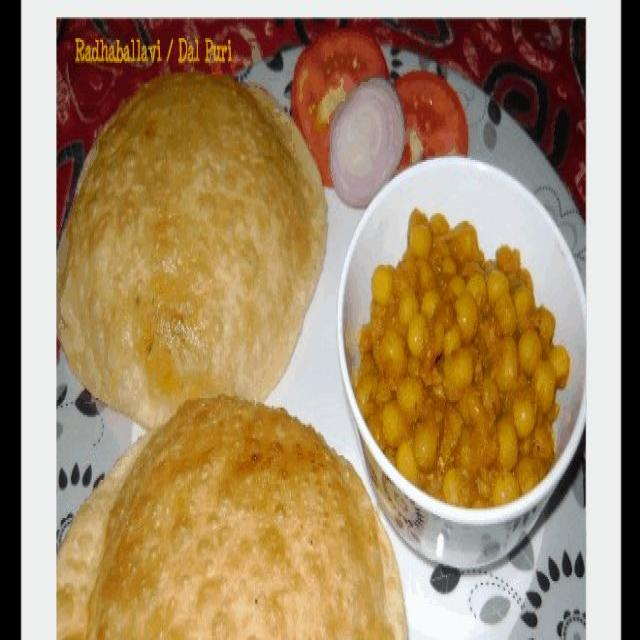puri: (65, 70, 356, 631)
